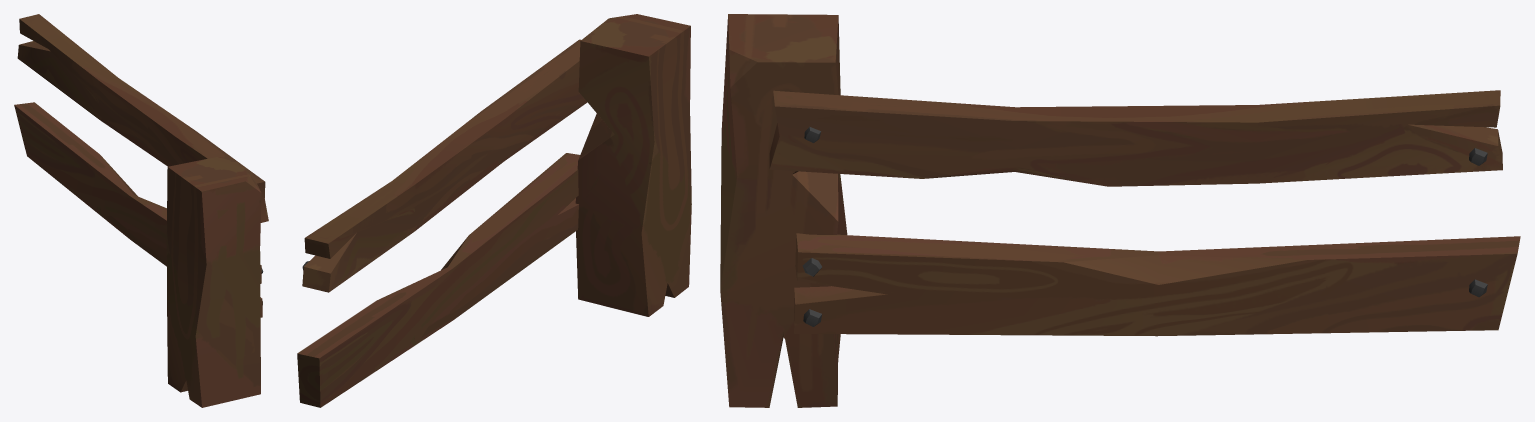
The model's file is Fence1.fbx.
3 views of the same model, side by side, from view 1: azimuth 30°, elevation 25°; view 2: azimuth 150°, elevation 25°; view 3: azimuth 270°, elevation 25° (orthographic). The views are drawn at different scales.
Visible parts, largest first — view 1: Słupek2.001; view 2: Słupek2.001; view 3: Słupek2.001.
Boxes of the visible parts, bbox=[...] form: Słupek2.001: bbox=[14, 14, 268, 407]; Słupek2.001: bbox=[297, 14, 691, 407]; Słupek2.001: bbox=[720, 14, 1520, 407].
Bounding box in the file's own units: 38.45 × 89.17 × 186.
1 material, 1 textured.
